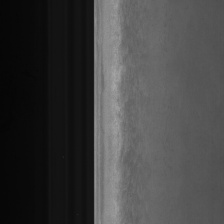silk_spot: (123, 64, 149, 206)
